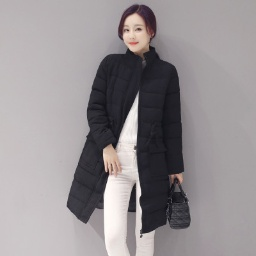face: (111, 1, 162, 64)
